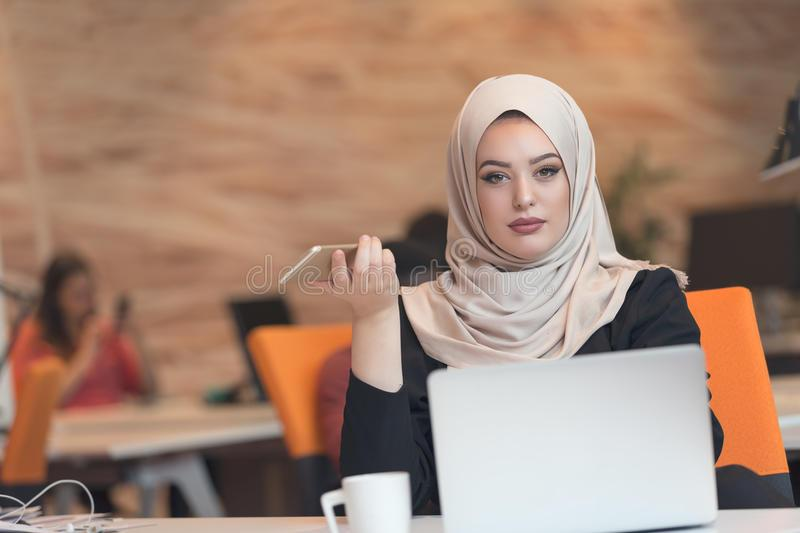No Mask: (448, 79, 629, 323)
